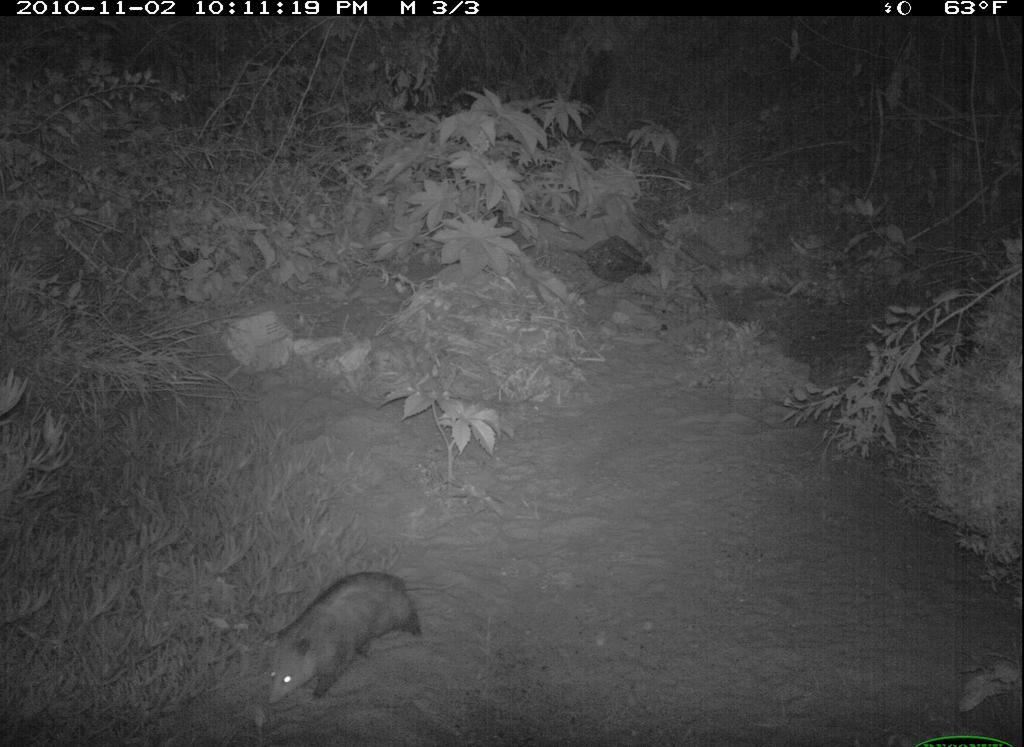opossum: (248, 561, 436, 710)
